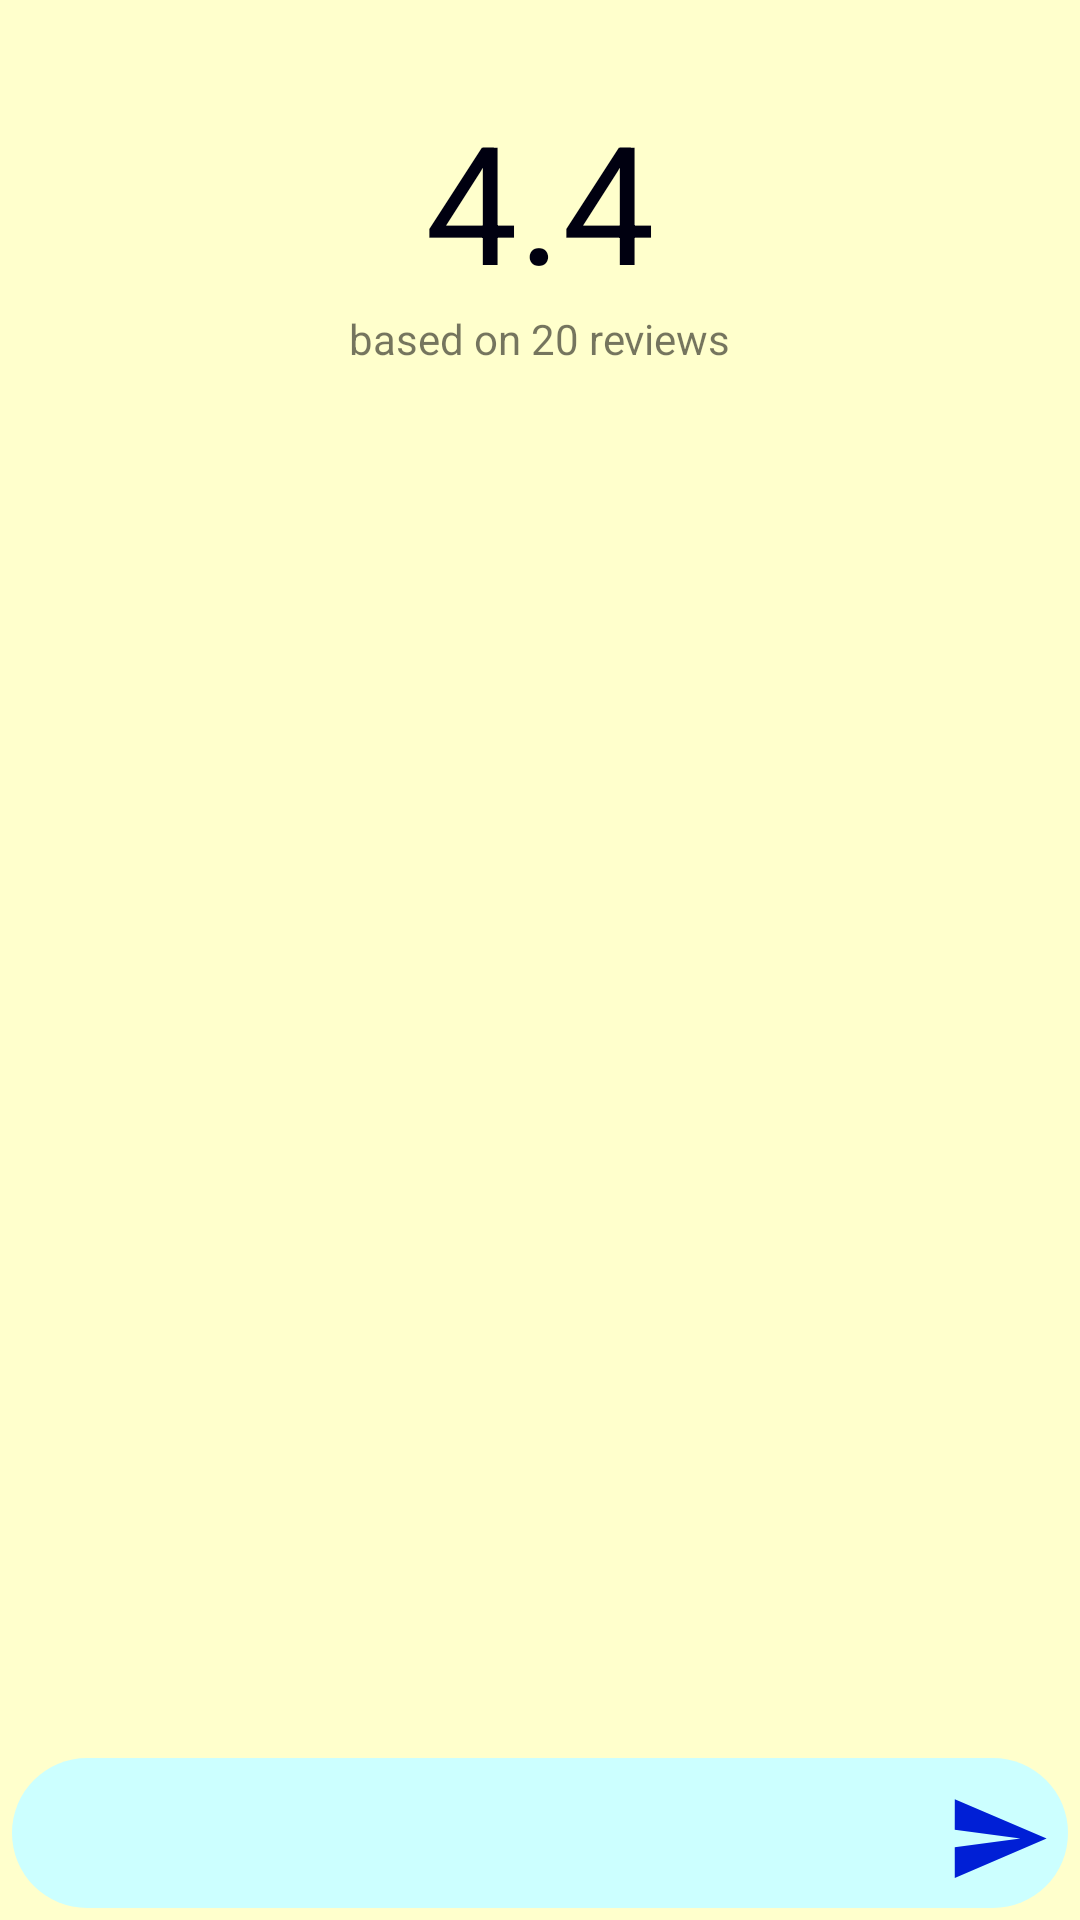

Where icons sit on this 1080px x 1920px app screen, as (x1, y1, x2, y2):
send: (954, 1799, 1047, 1878)
